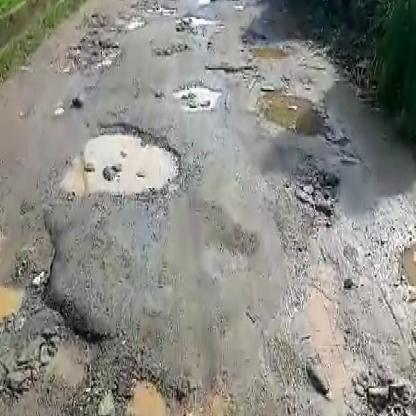pothole: (0, 211, 115, 391), (56, 119, 191, 201), (92, 362, 244, 416), (256, 82, 332, 139), (281, 165, 336, 224), (61, 35, 125, 74), (389, 236, 416, 327), (174, 84, 219, 112), (248, 41, 290, 62), (202, 61, 254, 74)
